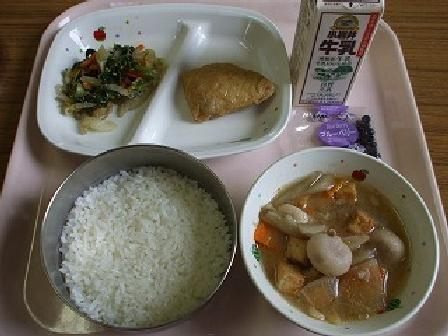Meat: (173, 58, 280, 118)
Milk: (285, 0, 389, 107)
Rice: (44, 151, 232, 326)
Salad: (53, 38, 167, 124)
vegetable soup: (245, 156, 420, 317)
